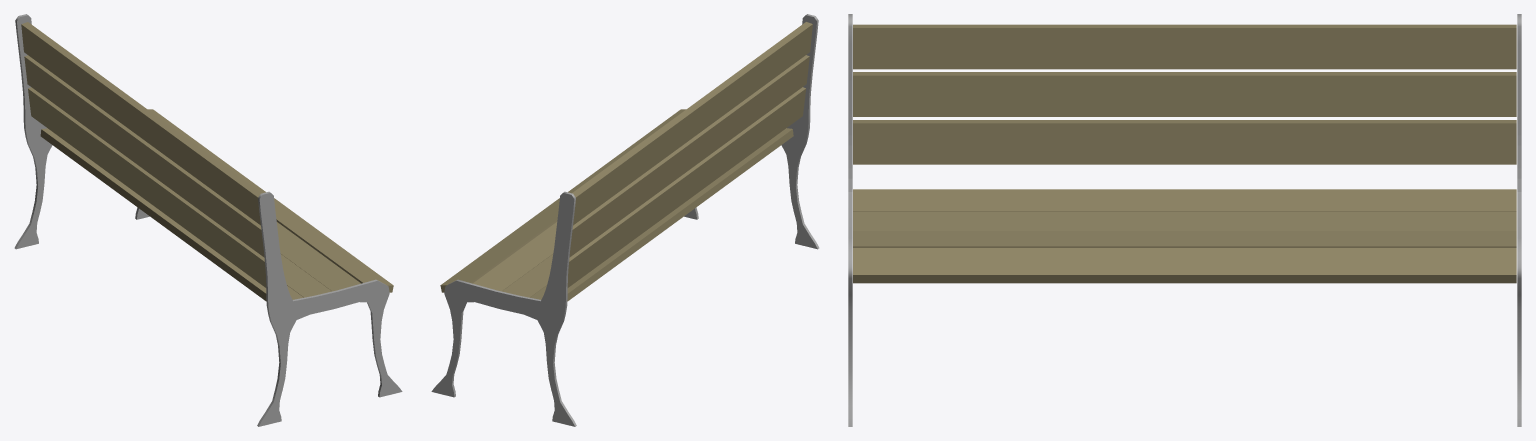
Rendered from SM_ArmlessBench.fbx.
3 views of the same model, side by side, from view 1: azimuth 30°, elevation 25°; view 2: azimuth 150°, elevation 25°; view 3: azimuth 270°, elevation 25° (orthographic). The views are drawn at different scales.
Parts seen in each view (by area): view 1: pCube14; view 2: pCube14; view 3: pCube14.
Part boxes in pixels (left/top/right/bottom): pCube14: left=14, top=14, right=402, bottom=426; pCube14: left=431, top=14, right=819, bottom=426; pCube14: left=848, top=14, right=1521, bottom=426.
Bounding box in the file's own units: 81.21 × 125 × 239.
